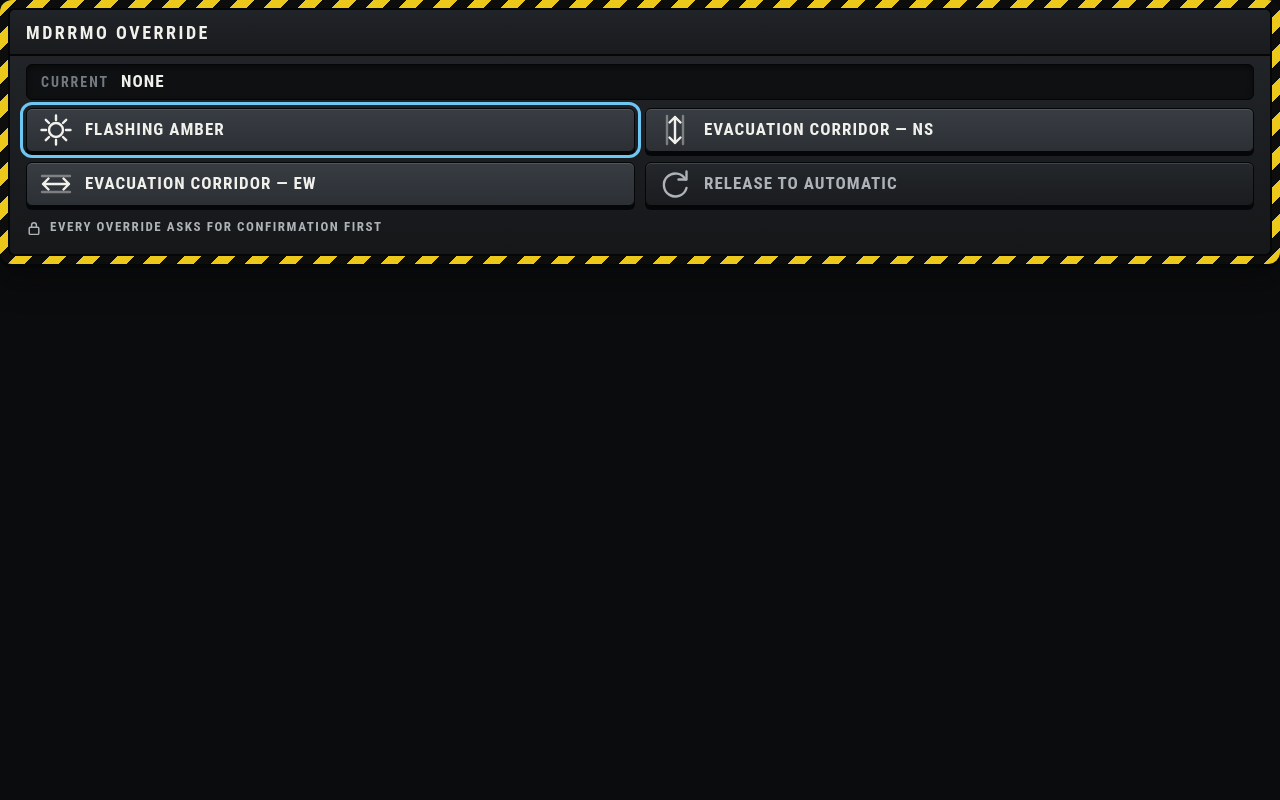
a network failure shows the raw INTERNAL code
What coordinates should you click on to do the following:
click the button "Flashing amber"
I would click on:
 (56, 130)
Its box is x1=26 y1=108 x2=635 y2=152.
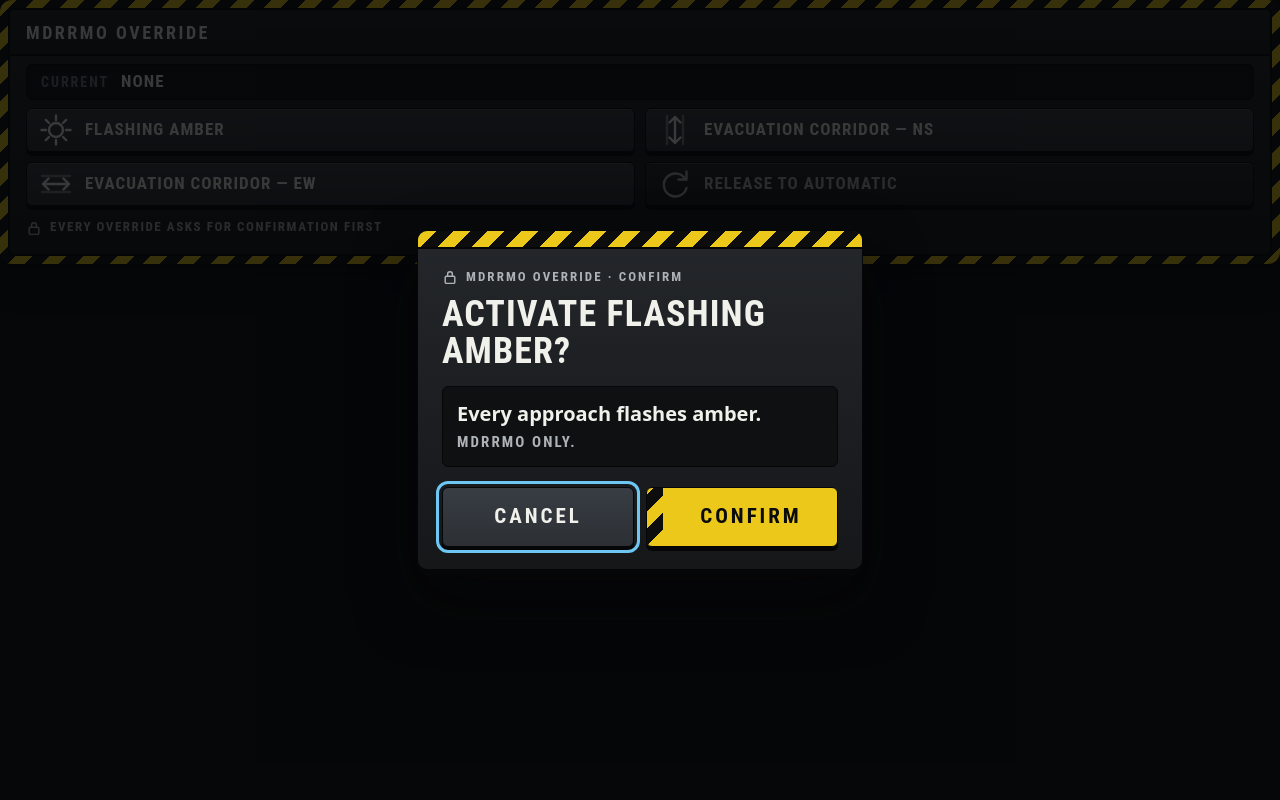
What coordinates should you click on to do the following:
click the button "Confirm"
I would click on:
 (742, 517)
Its box is x1=646 y1=487 x2=838 y2=547.
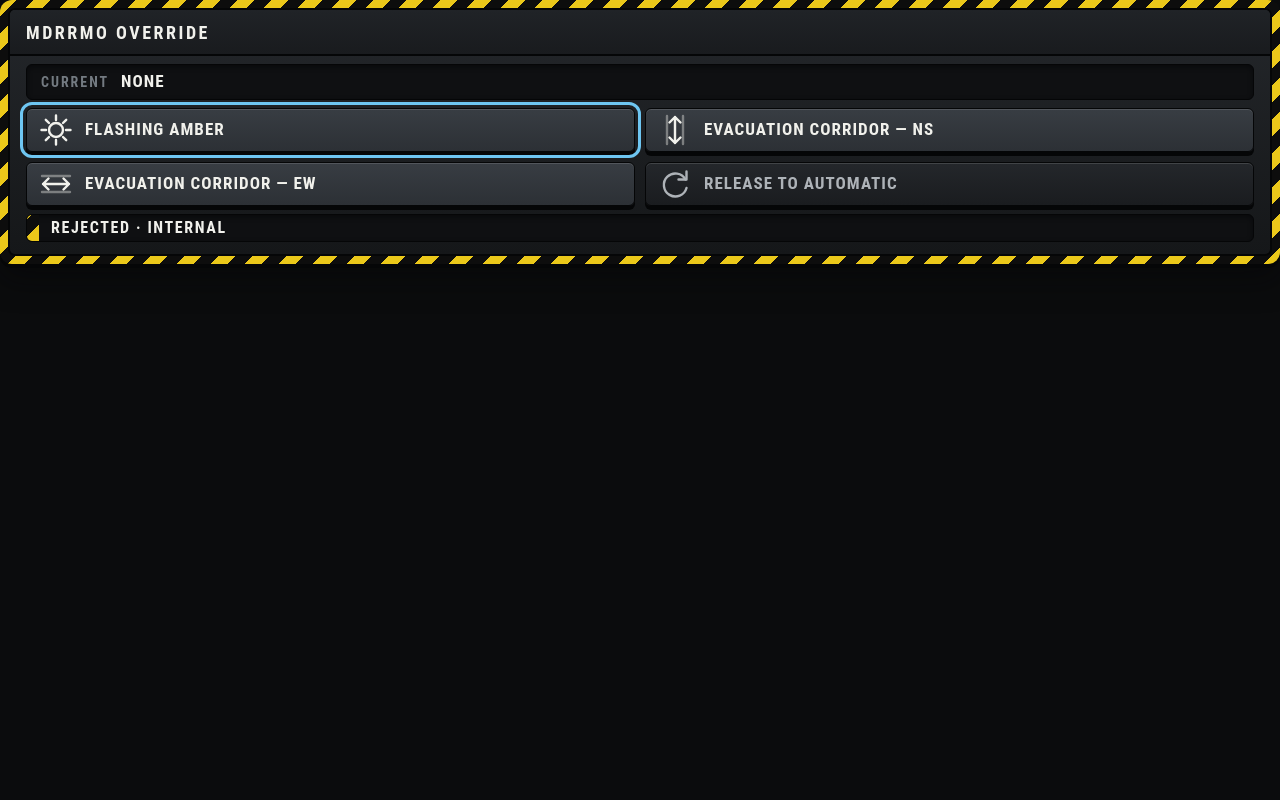
Check: the dialog is gone
Check: the text "Rejected · INTERNAL" is shown, box x1=39 y1=215 x2=239 y2=240
